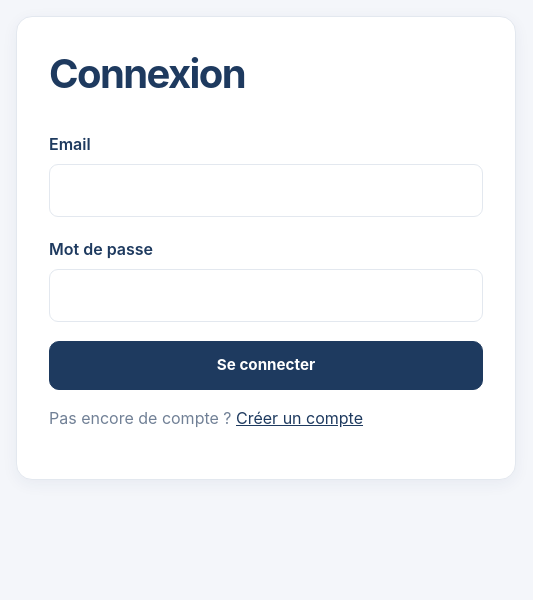
Scenario: LoginPage › affiche le message d'erreur de l'API
In the field labelled "Email": (266, 191) [49, 164, 483, 217], type "jean@example.com"
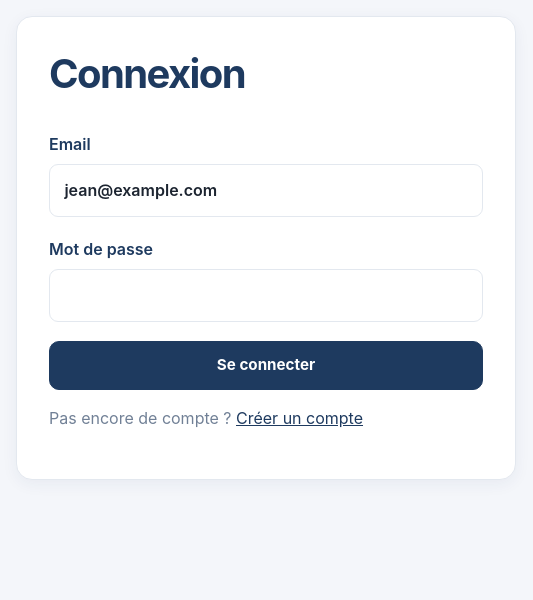
In the password field labelled "Mot de passe": (266, 295) [49, 268, 483, 322], type "password123"
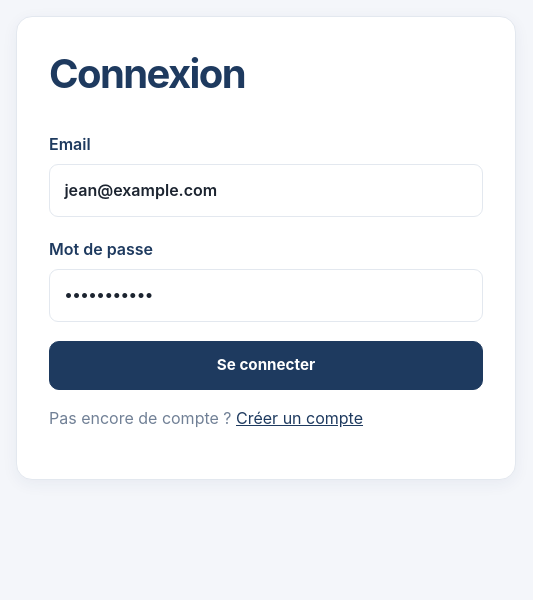
Click the button "Se connecter": (266, 365) [49, 341, 483, 390]
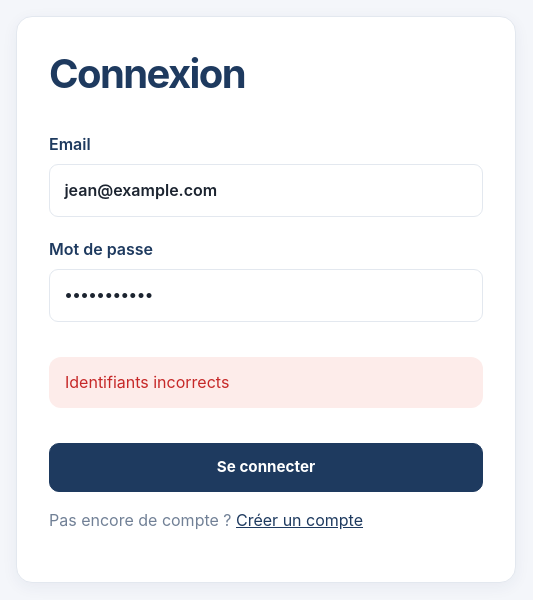
Expected: the heading "Connexion" is shown, [49, 49, 245, 98]
Expected: the message reads "Identifiants incorrects", [65, 372, 229, 392]
